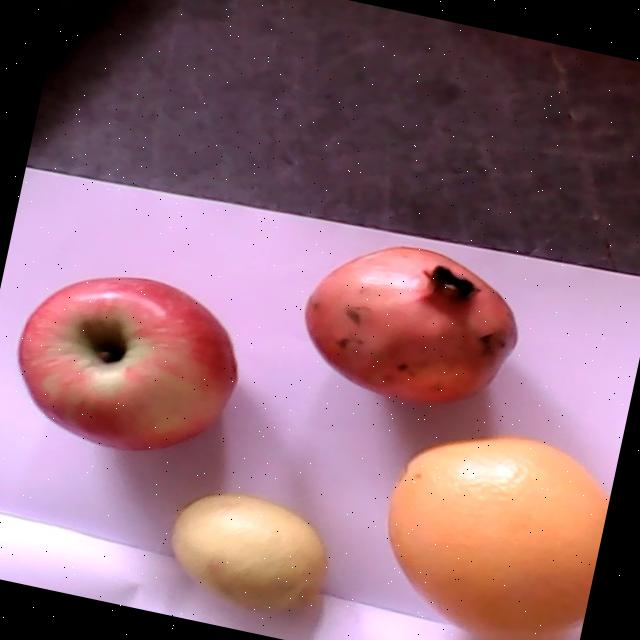apple: (15, 276, 239, 449)
lemon: (171, 493, 330, 615)
orange: (388, 434, 607, 640)
pomegranate: (306, 245, 519, 404)
